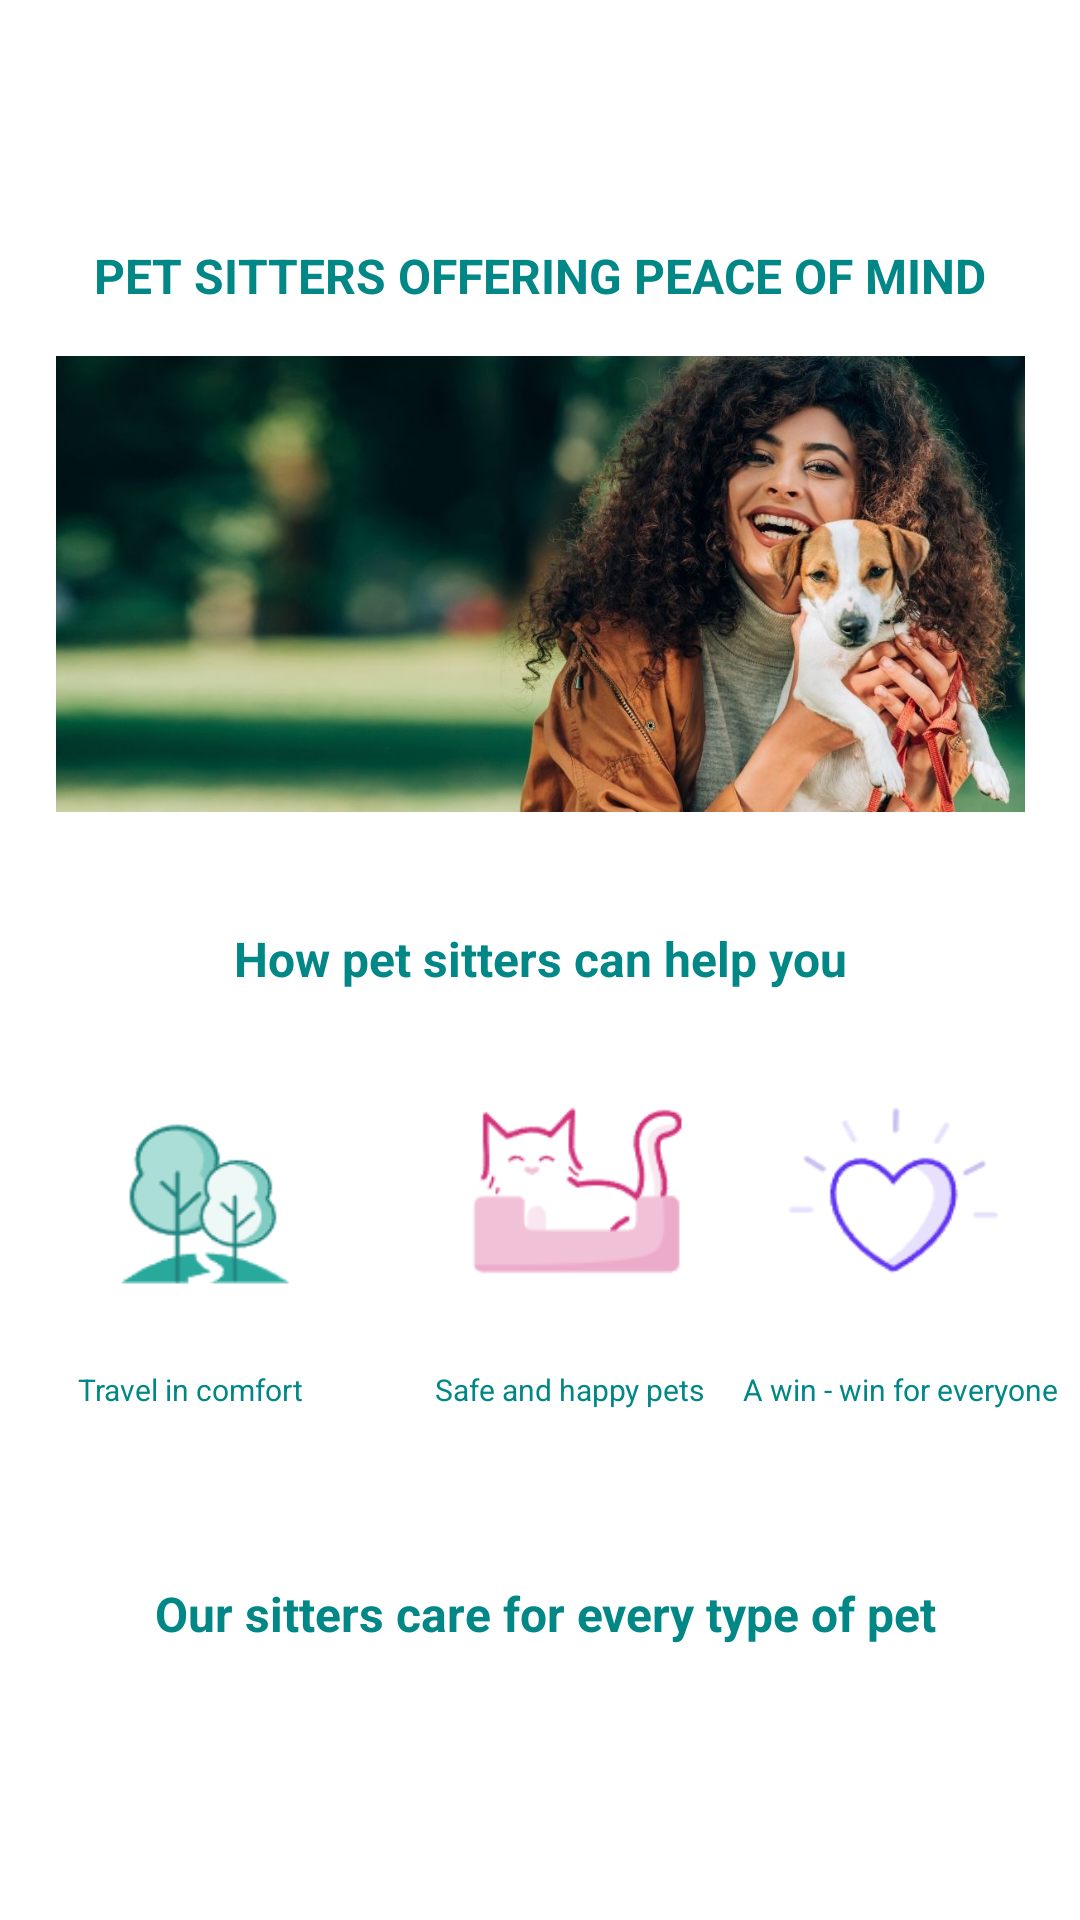

Icons on this 1080x1920 Android screen, each with its box as (x1, y1, x2, y2):
cat: (474, 1108, 682, 1273)
heart: (791, 1108, 997, 1273)
threes: (121, 1124, 289, 1284)
